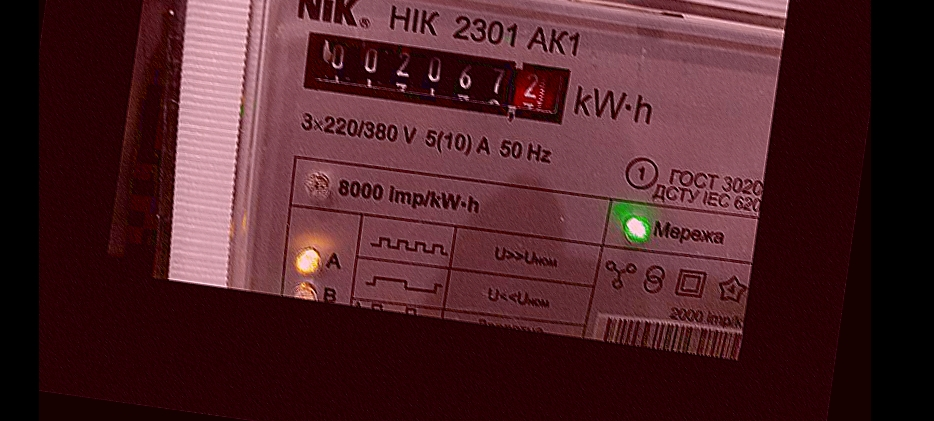0: (423, 51, 445, 82), (327, 40, 348, 71), (361, 43, 381, 74)
2: (393, 47, 414, 78), (521, 68, 542, 99)
6: (455, 59, 477, 90)
7: (488, 64, 508, 96)
screen: (286, 16, 587, 138)
